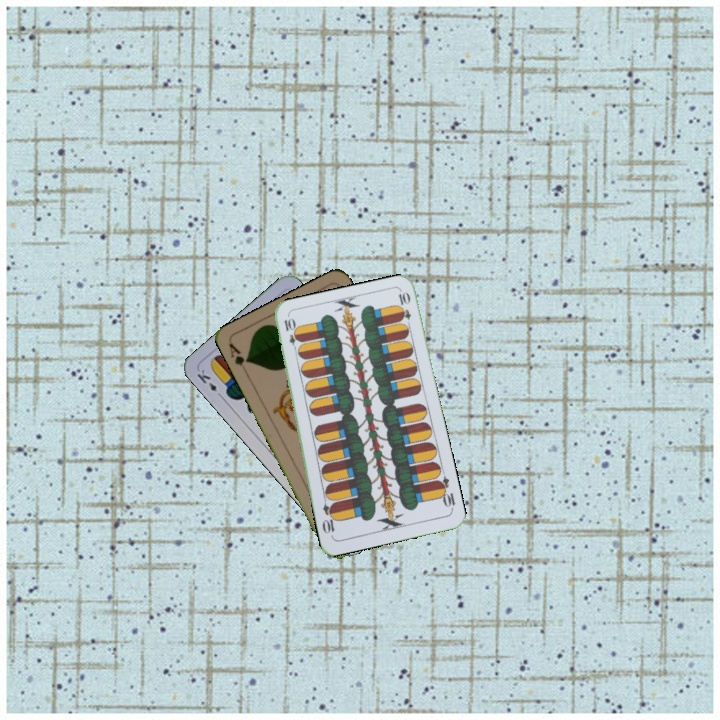E10: (433, 473, 458, 513), (280, 314, 301, 355)
EK: (193, 365, 226, 401)
GA: (225, 339, 252, 377)
